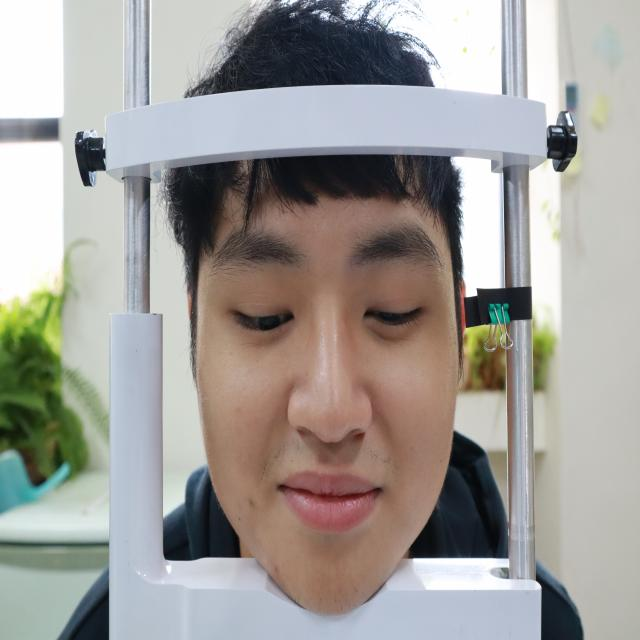eye: (360, 289, 430, 348), (227, 294, 299, 342)
gaze: (256, 312, 282, 332), (377, 308, 396, 327)
